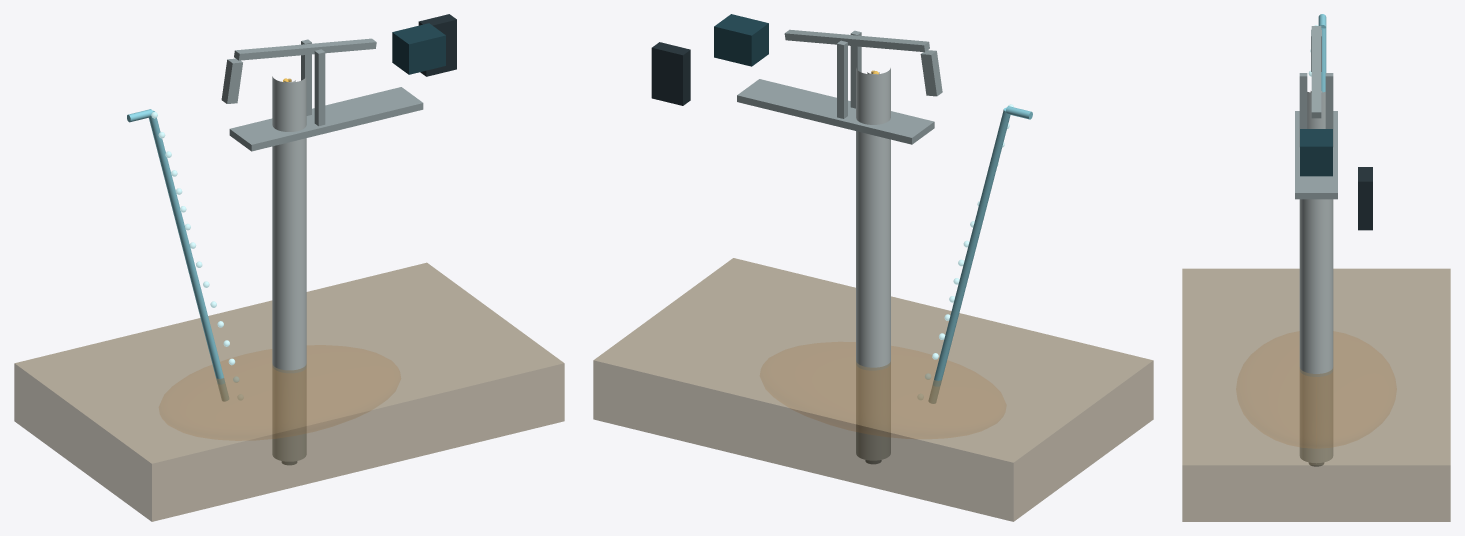
File: well.glb
3 views of the same model, side by side, from view 1: azimuth 30°, elevation 25°; view 2: azimuth 150°, elevation 25°; view 3: azimuth 270°, elevation 25° (orthographic). The views are drawn at different scales.
Parts seen in each view (by area): view 1: Reservoir, Well, SurfaceBase, SteamInjectorPipe, Motor, WalkingBeam, VFD, SurfaceUnitPostB, HorseHead; view 2: Reservoir, Well, SurfaceBase, SteamInjectorPipe, Motor, VFD, WalkingBeam, SurfaceUnitPostA, HorseHead; view 3: Reservoir, Well, SurfaceBase, Motor, WalkingBeam, VFD, SurfaceUnitPostA, SurfaceUnitPostB, SteamInjectorPipe.
Boxes of the visible parts, <box> form: Reservoir: <box>14,262,564,521</box>; Well: <box>272,76,306,461</box>; SurfaceBase: <box>229,87,423,151</box>; SteamInjectorPipe: <box>149,110,228,401</box>; Motor: <box>392,23,445,74</box>; WalkingBeam: <box>234,38,376,60</box>; VFD: <box>418,14,456,76</box>; SurfaceUnitPostB: <box>314,49,325,126</box>; HorseHead: <box>221,58,242,103</box>; Reservoir: <box>593,258,1153,521</box>; Well: <box>856,68,890,460</box>; SurfaceBase: <box>737,79,934,144</box>; SteamInjectorPipe: <box>928,107,1010,403</box>; Motor: <box>714,14,768,66</box>; VFD: <box>651,42,690,105</box>; WalkingBeam: <box>784,29,929,52</box>; SurfaceUnitPostA: <box>837,40,847,118</box>; HorseHead: <box>920,50,942,96</box>; Reservoir: <box>1182,268,1450,521</box>; Well: <box>1299,92,1333,462</box>; SurfaceBase: <box>1295,111,1337,199</box>; Motor: <box>1300,129,1332,176</box>; WalkingBeam: <box>1311,26,1321,118</box>; VFD: <box>1358,167,1372,230</box>; SurfaceUnitPostA: <box>1325,73,1333,146</box>; SurfaceUnitPostB: <box>1299,73,1307,146</box>; SteamInjectorPipe: <box>1321,28,1326,92</box>.
Size of the model in its own units: 7.8 by 7.64 by 4.5.
